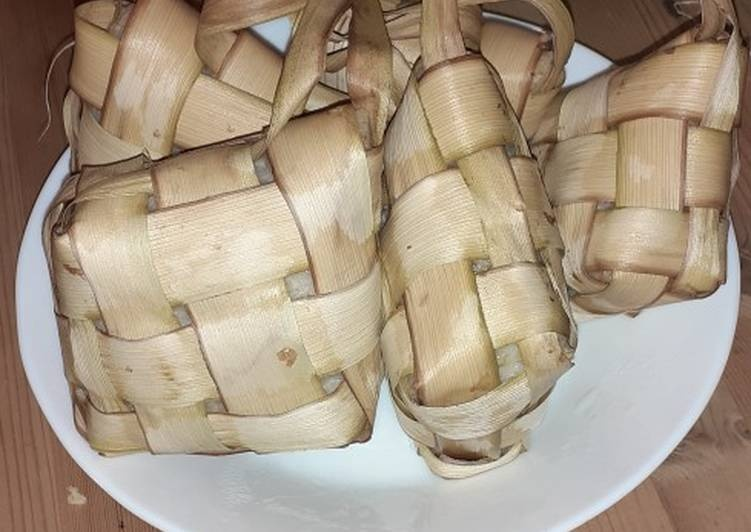ketupat: (40, 92, 383, 458), (374, 45, 581, 479), (550, 18, 747, 316)
